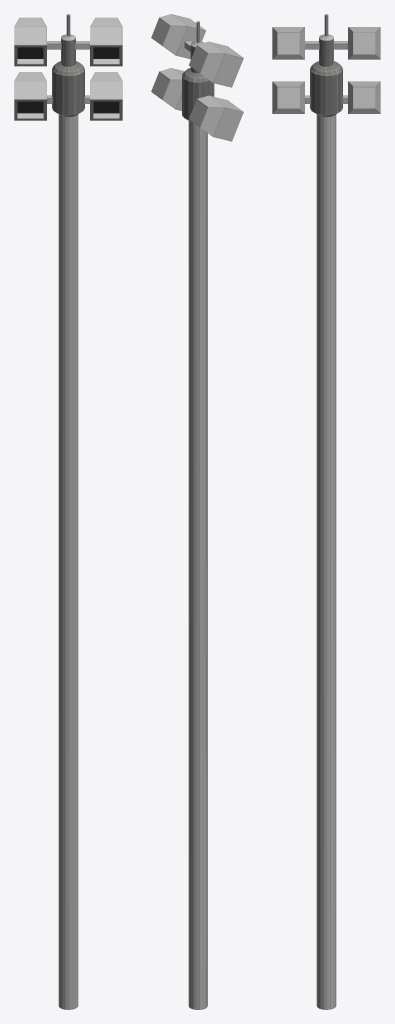
File: LightTower.fbx
The picture shows the model from 3 angles, left to right: view 1: azimuth 90°, elevation 25°; view 2: azimuth 210°, elevation 25°; view 3: azimuth 270°, elevation 25°; orthographic projection.
Visible parts, largest first — view 1: LightTower_Body; view 2: LightTower_Body; view 3: LightTower_Body.
Part boxes in pixels (<box>): LightTower_Body: <box>14,14,122,1009</box>; LightTower_Body: <box>151,14,243,1009</box>; LightTower_Body: <box>272,14,380,1009</box>.
Bounding box in the file's own units: 3.67 × 83.27 × 8.27.
